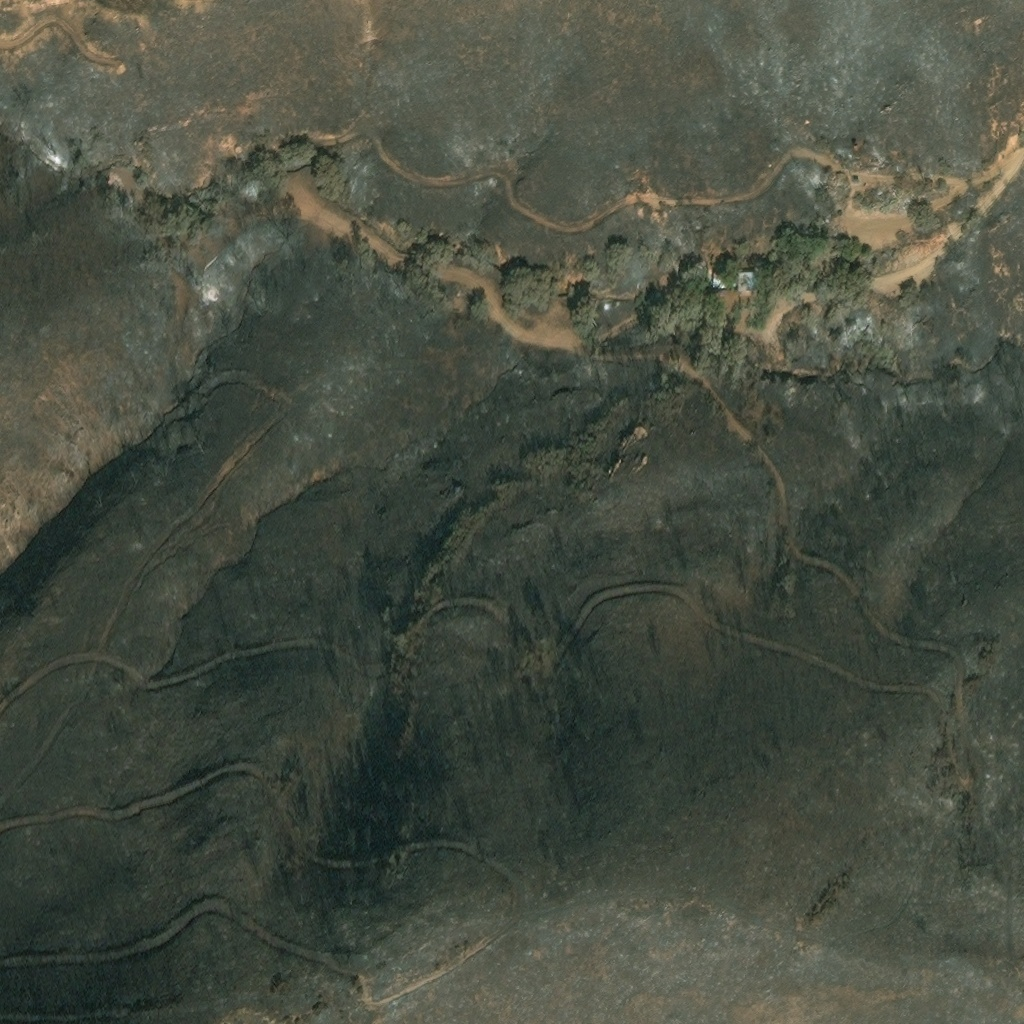0 no-damage: (703, 265, 730, 291), (738, 268, 759, 287)
